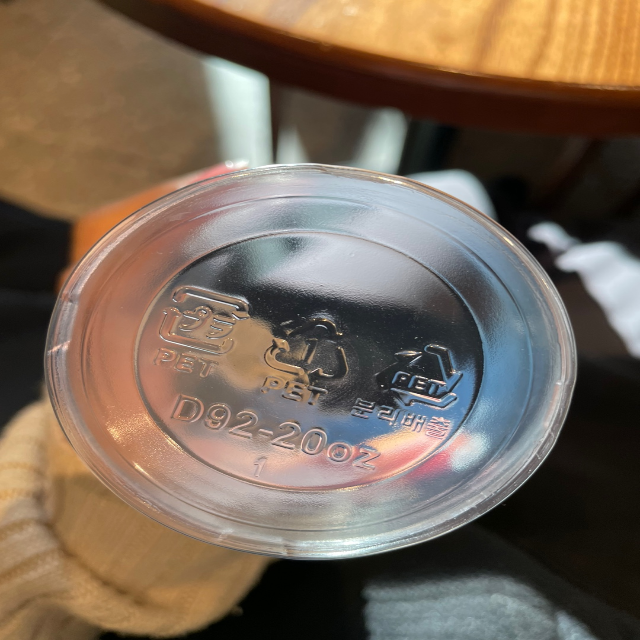pet: (351, 338, 459, 443), (151, 277, 253, 385), (259, 310, 350, 411)
